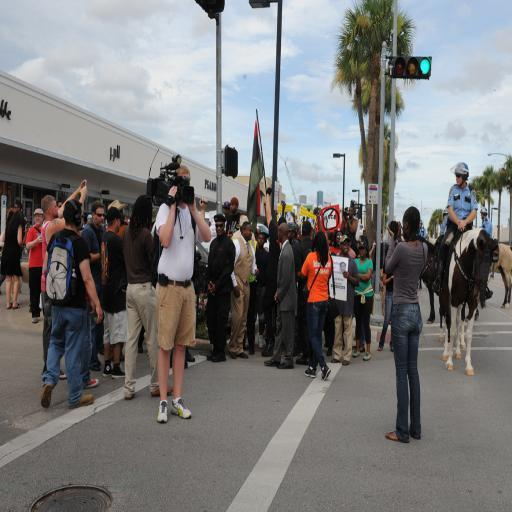horse: (436, 213, 500, 379), (367, 240, 437, 326), (488, 241, 512, 312)
